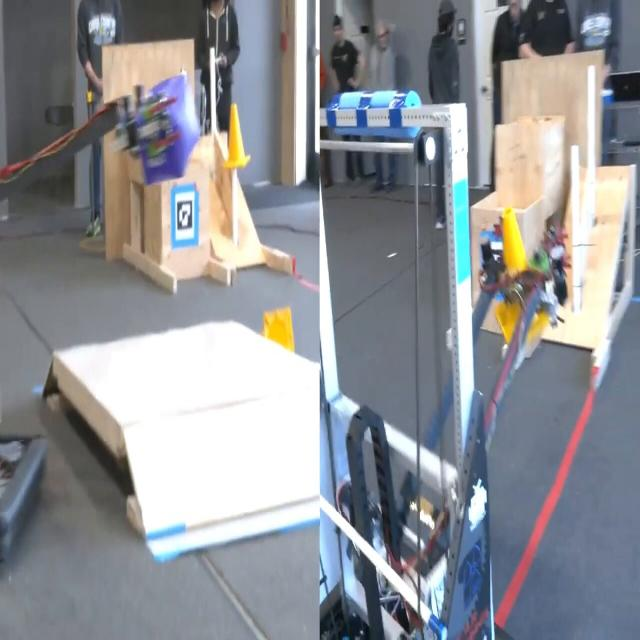frc_cone: (494, 202, 552, 347), (222, 106, 250, 166), (264, 310, 300, 354)
frc_cube: (126, 73, 202, 181)
